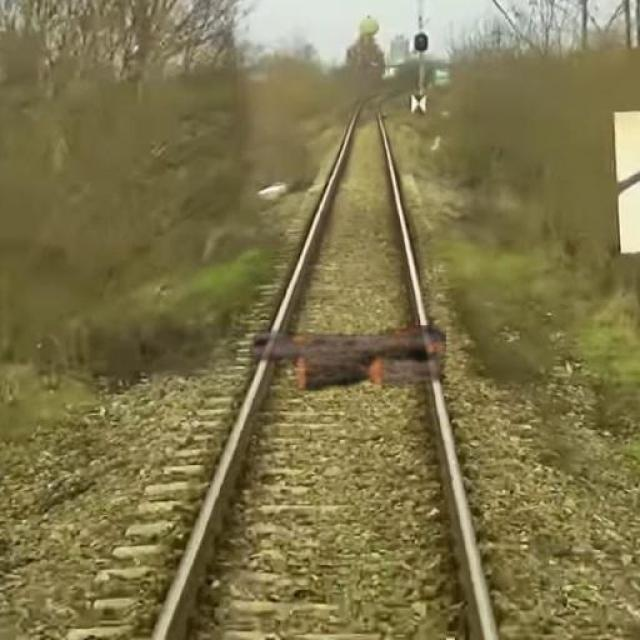Stone: (248, 324, 458, 393)
